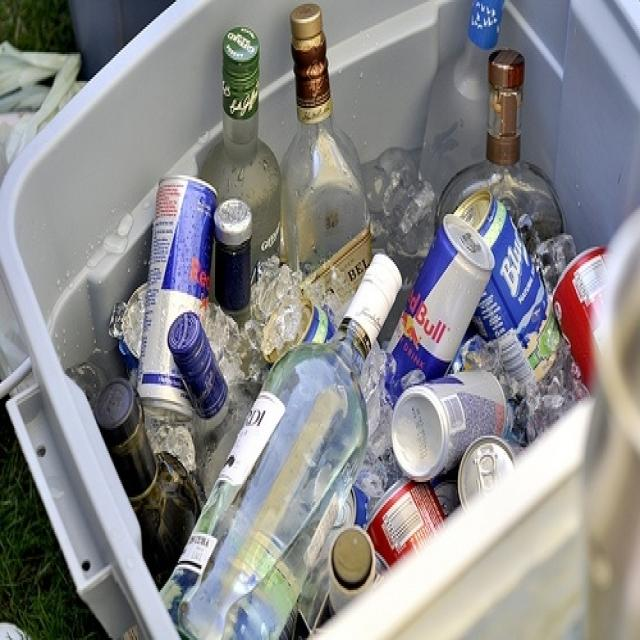Glass: (200, 7, 351, 640)
can: (372, 210, 625, 557), (135, 158, 211, 417)
